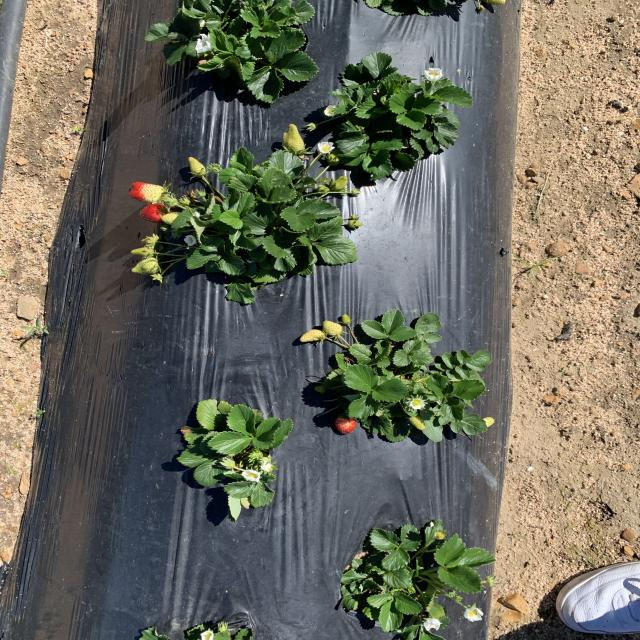unripe: (138, 203, 170, 224), (334, 417, 356, 435)
